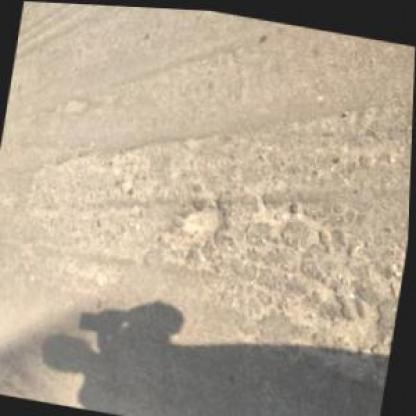pothole: (176, 190, 232, 252)
